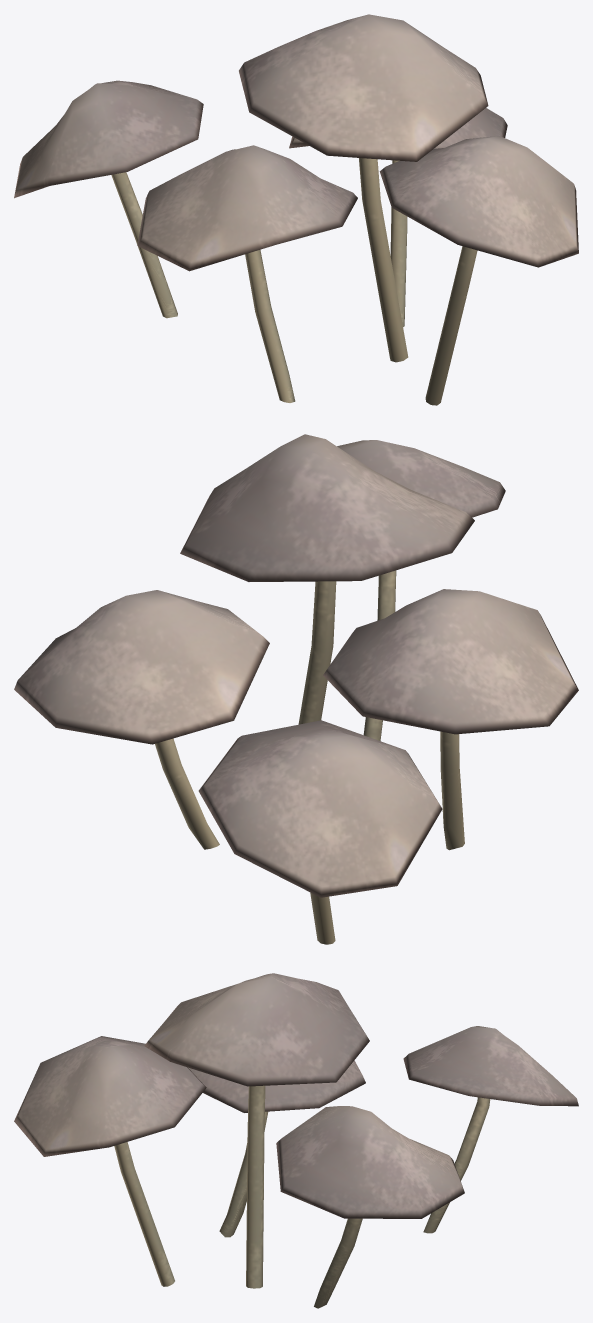
File: mushroom_common.glb
The picture shows the model from 3 angles, top to bottom: view 1: azimuth 30°, elevation 25°; view 2: azimuth 150°, elevation 25°; view 3: azimuth 270°, elevation 25°; orthographic projection. The views are drawn at different scales.
Size of the model in its own units: 0.5637 by 0.4635 by 0.7791.
Materials: 1 (1 with a texture image).
